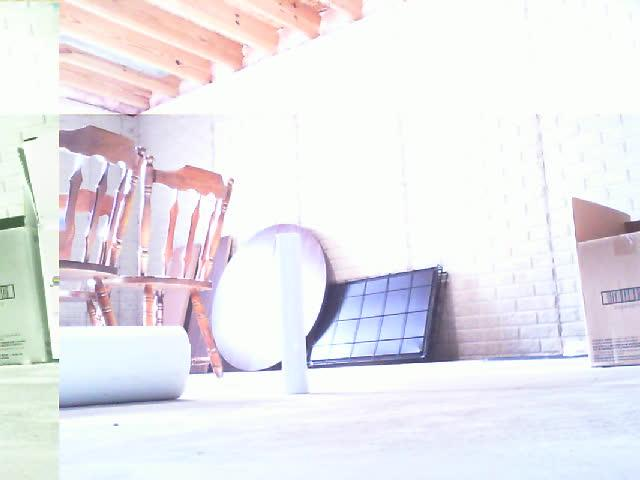coral: (50, 319, 191, 415)
